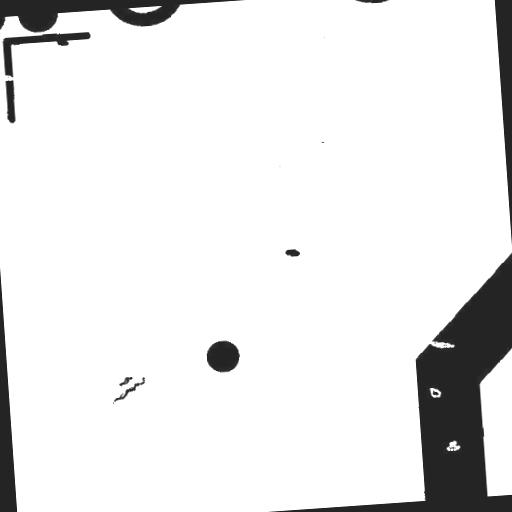copper: (104, 368, 154, 410), (277, 240, 308, 265)
mousebite: (420, 332, 462, 357)
open: (0, 66, 23, 89)
pin-hole: (437, 432, 468, 459), (421, 379, 449, 406)
spur: (48, 29, 76, 54)
